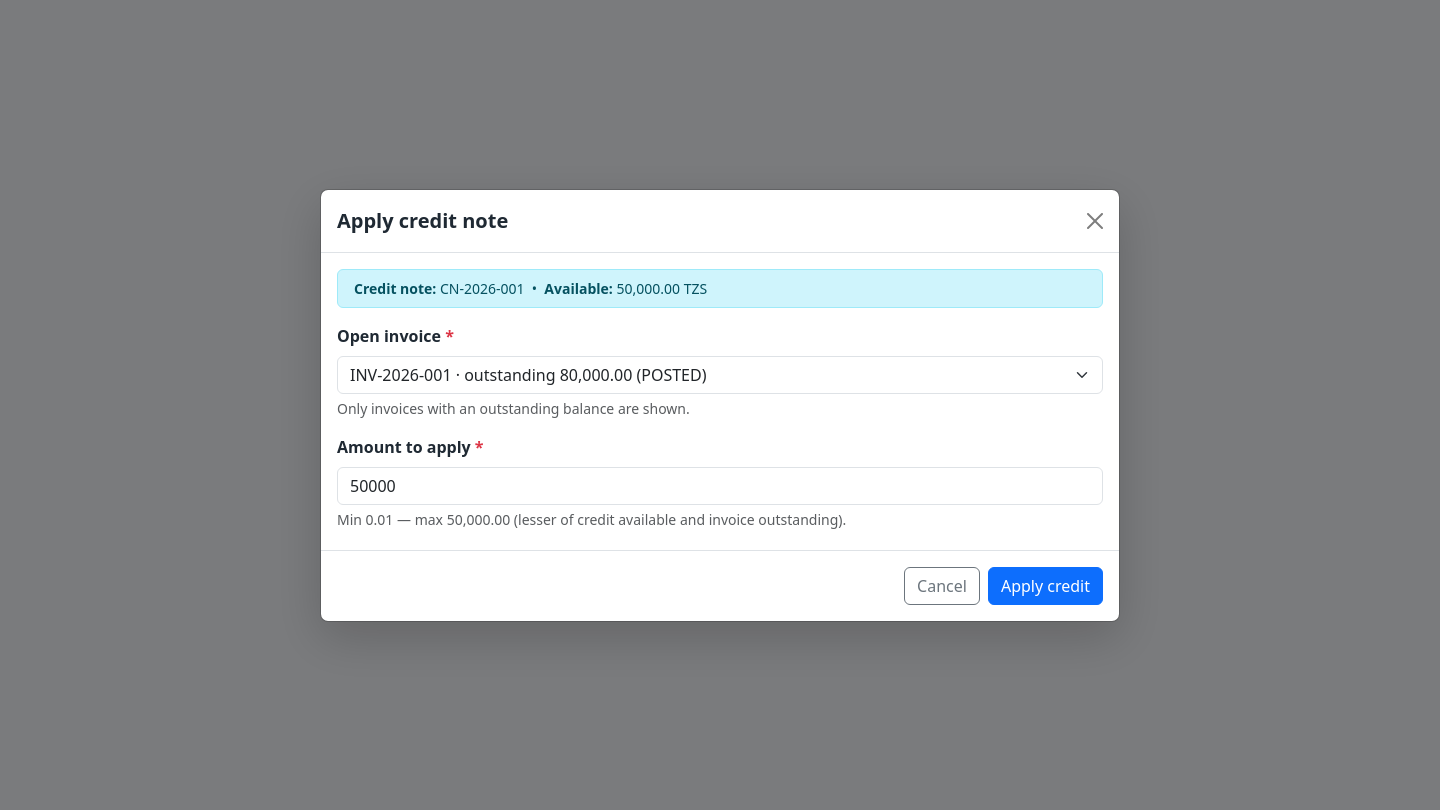
Scenario: CreditNoteApplyModalComponent › successful submission › shows fully-allocated message when status is FULLY_ALLOCATED
Click the submit button at point(1045, 586), box [988, 566, 1103, 604]
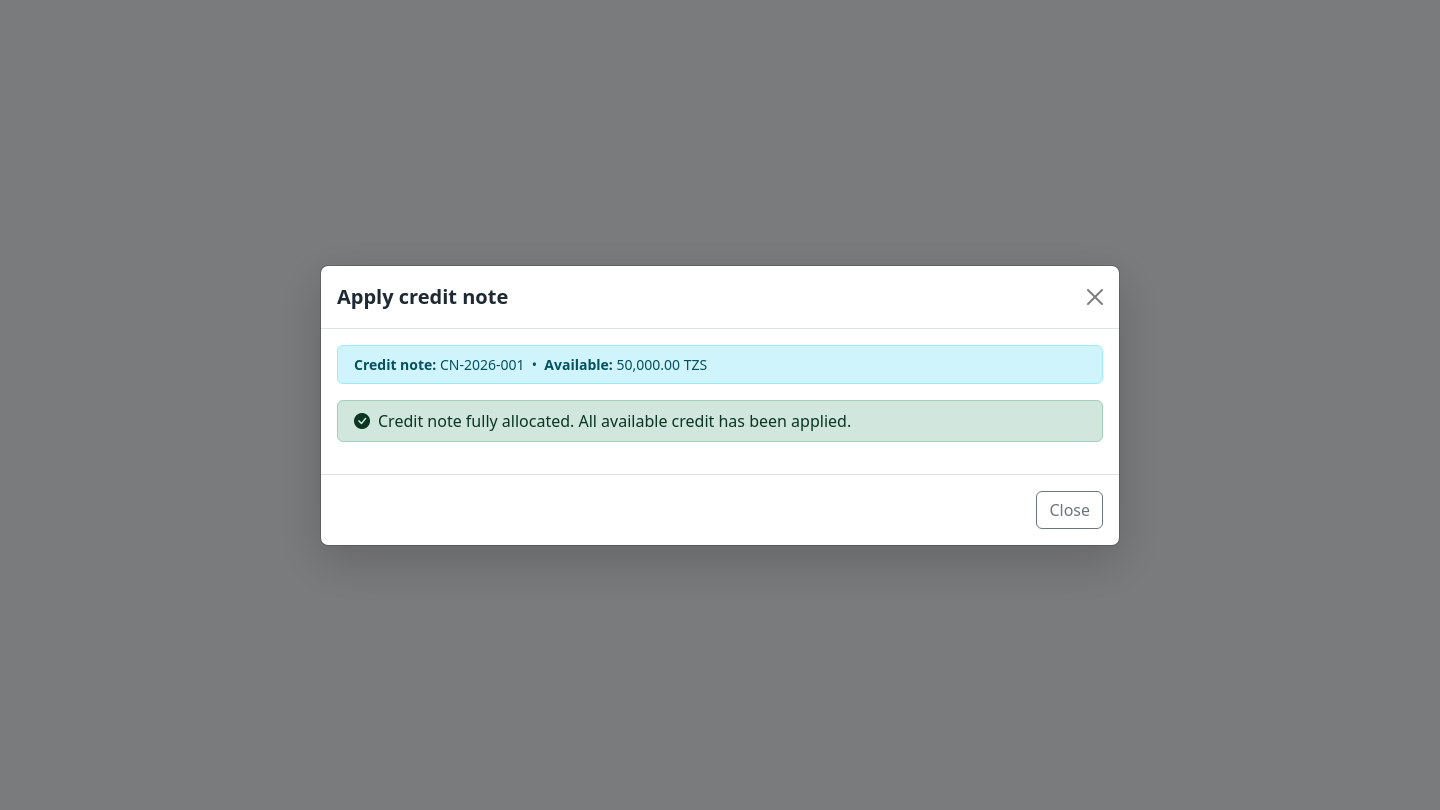
Check: the text "fully allocated" is shown, box [378, 410, 851, 432]
